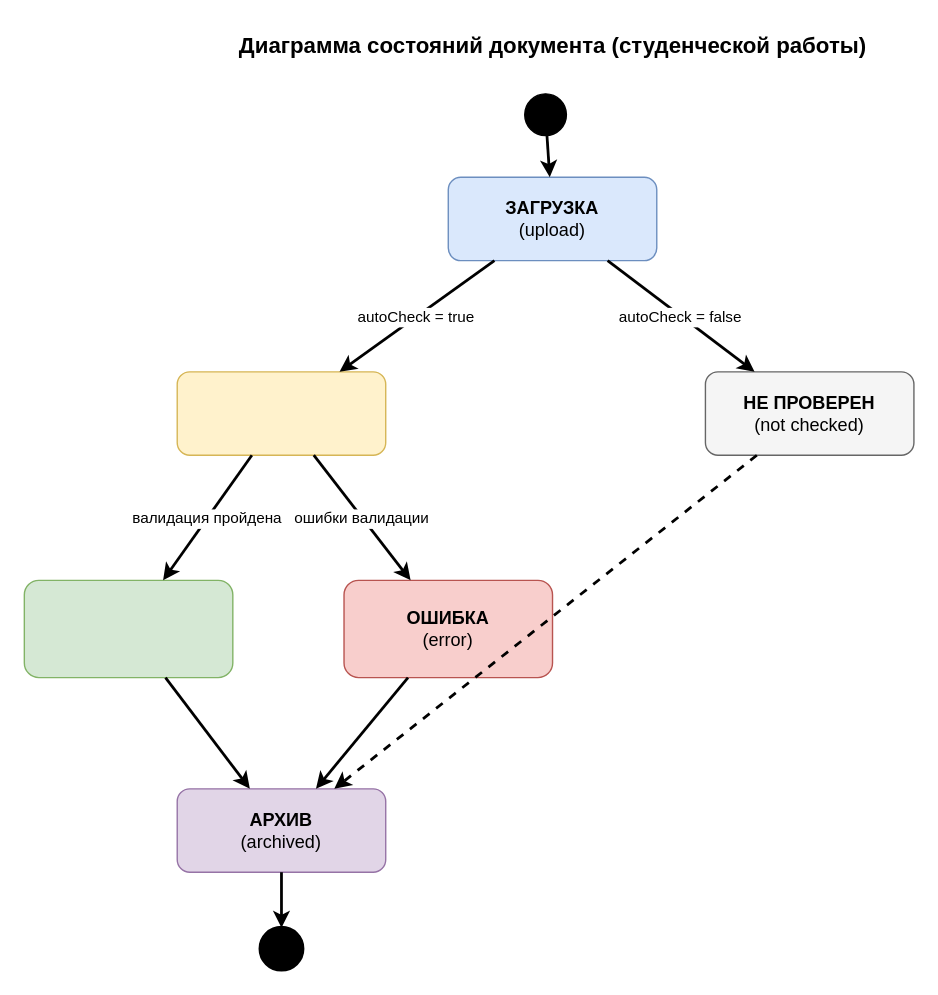
The diagram is 938 pixels wide and 995 high, and some of its shapes have lost their labels. The centre of each missing label's shape, as x and y in pixels:
ПРОВЕРЕН (checked) % = 0-100: the point at 128,628
ПРОВЕРКА (pending): the point at 281,412
